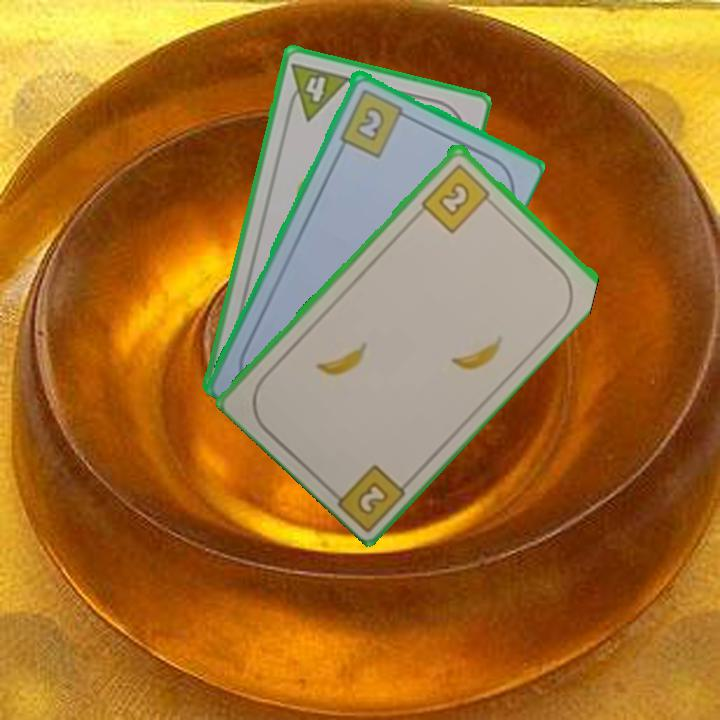2b: (417, 159, 496, 236), (336, 85, 413, 159), (352, 477, 392, 518)
4p: (282, 58, 353, 124)
